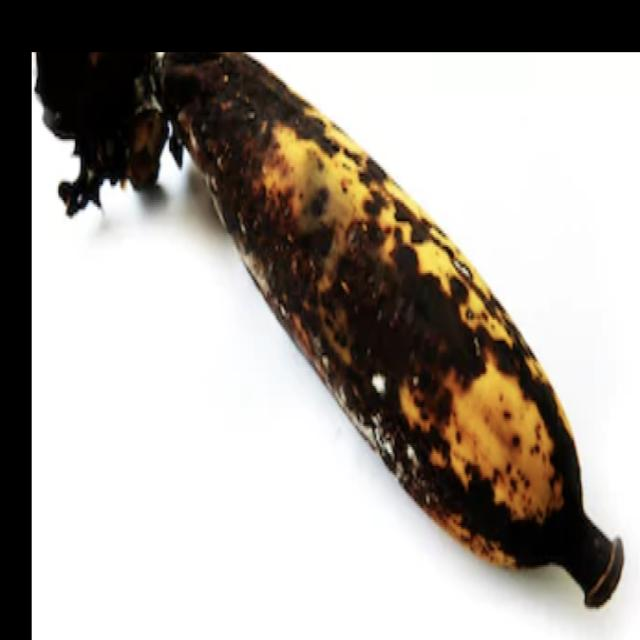Rotten: (36, 21, 635, 640)
